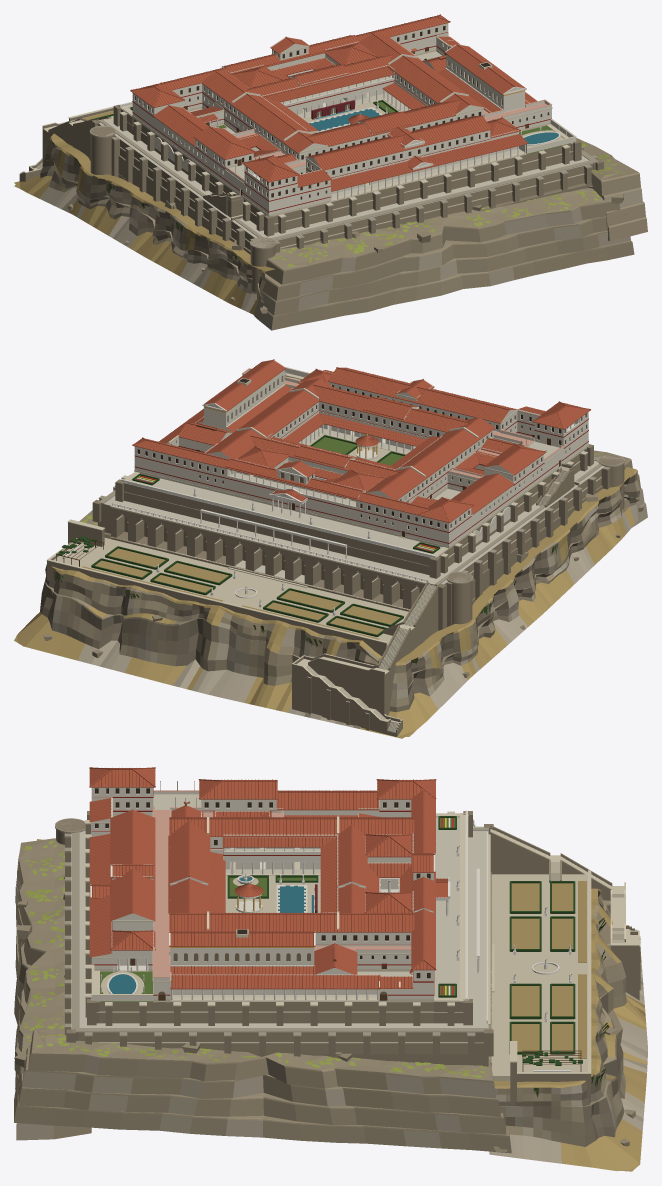
Rendered from rome_tiberiana_parts.glb.
3 renders of one model, top to bottom at view 1: azimuth 30°, elevation 25°; view 2: azimuth 150°, elevation 25°; view 3: azimuth 270°, elevation 25°, orthographic. The views are drawn at different scales.
Visible parts, largest first — view 1: tib_base, tib_roof, tib_f2, tib_f1, tib_garden, room_S11, tib_f3; view 2: tib_base, tib_roof, tib_f1, tib_f2, tib_garden, tib_f3, room_L01; view 3: tib_base, tib_roof, tib_f1, tib_f2, tib_garden, tib_f3, room_E09, room_SOL.
Part boxes in pixels (x1,y1,x2,y2): tib_base: (14, 101, 647, 330); tib_roof: (130, 14, 551, 191); tib_f2: (132, 23, 525, 201); tib_f1: (132, 32, 552, 216); tib_garden: (189, 51, 576, 153); room_S11: (331, 149, 526, 202); tib_f3: (244, 46, 309, 190); tib_base: (14, 373, 647, 738); tib_roof: (132, 359, 590, 523); tib_f1: (134, 369, 588, 548); tib_f2: (134, 370, 588, 532); tib_garden: (284, 367, 460, 500); tib_f3: (277, 412, 588, 484); room_L01: (230, 472, 355, 506); tib_base: (14, 810, 647, 1171); tib_roof: (89, 767, 436, 989); tib_f1: (91, 790, 436, 1002); tib_f2: (91, 796, 434, 982); tib_garden: (91, 815, 412, 1001); tib_f3: (91, 787, 433, 880); room_E09: (171, 994, 377, 1001); room_SOL: (153, 794, 201, 809).
Bounding box in the file's own units: 165 × 64.48 × 185.
